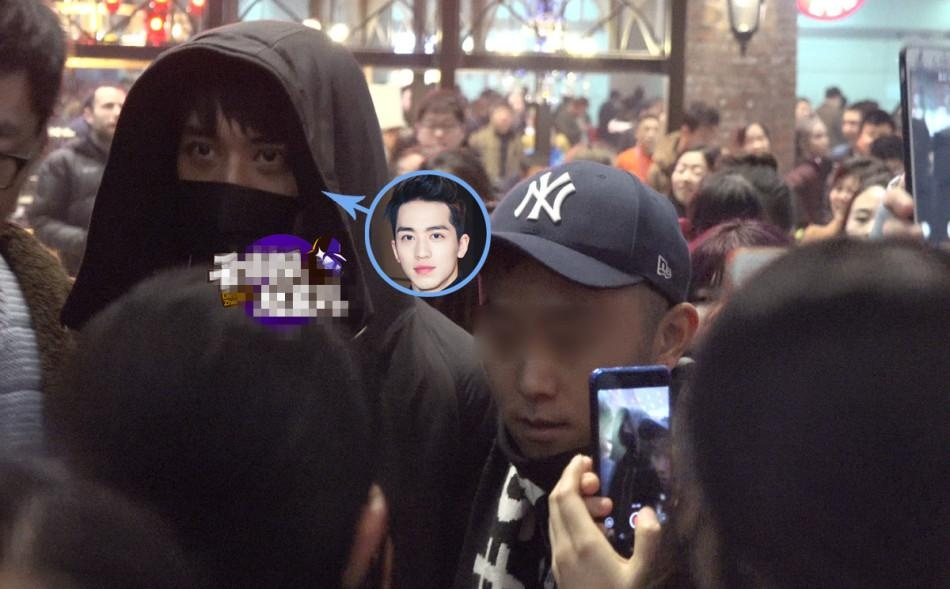Mask: (158, 122, 306, 270)
